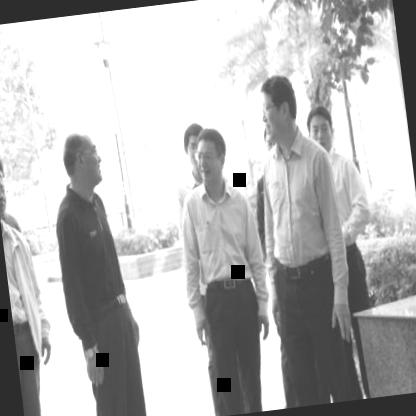head: (250, 72, 301, 148), (56, 124, 105, 197), (192, 121, 231, 187), (299, 99, 337, 154), (178, 118, 206, 176), (0, 165, 13, 230)
